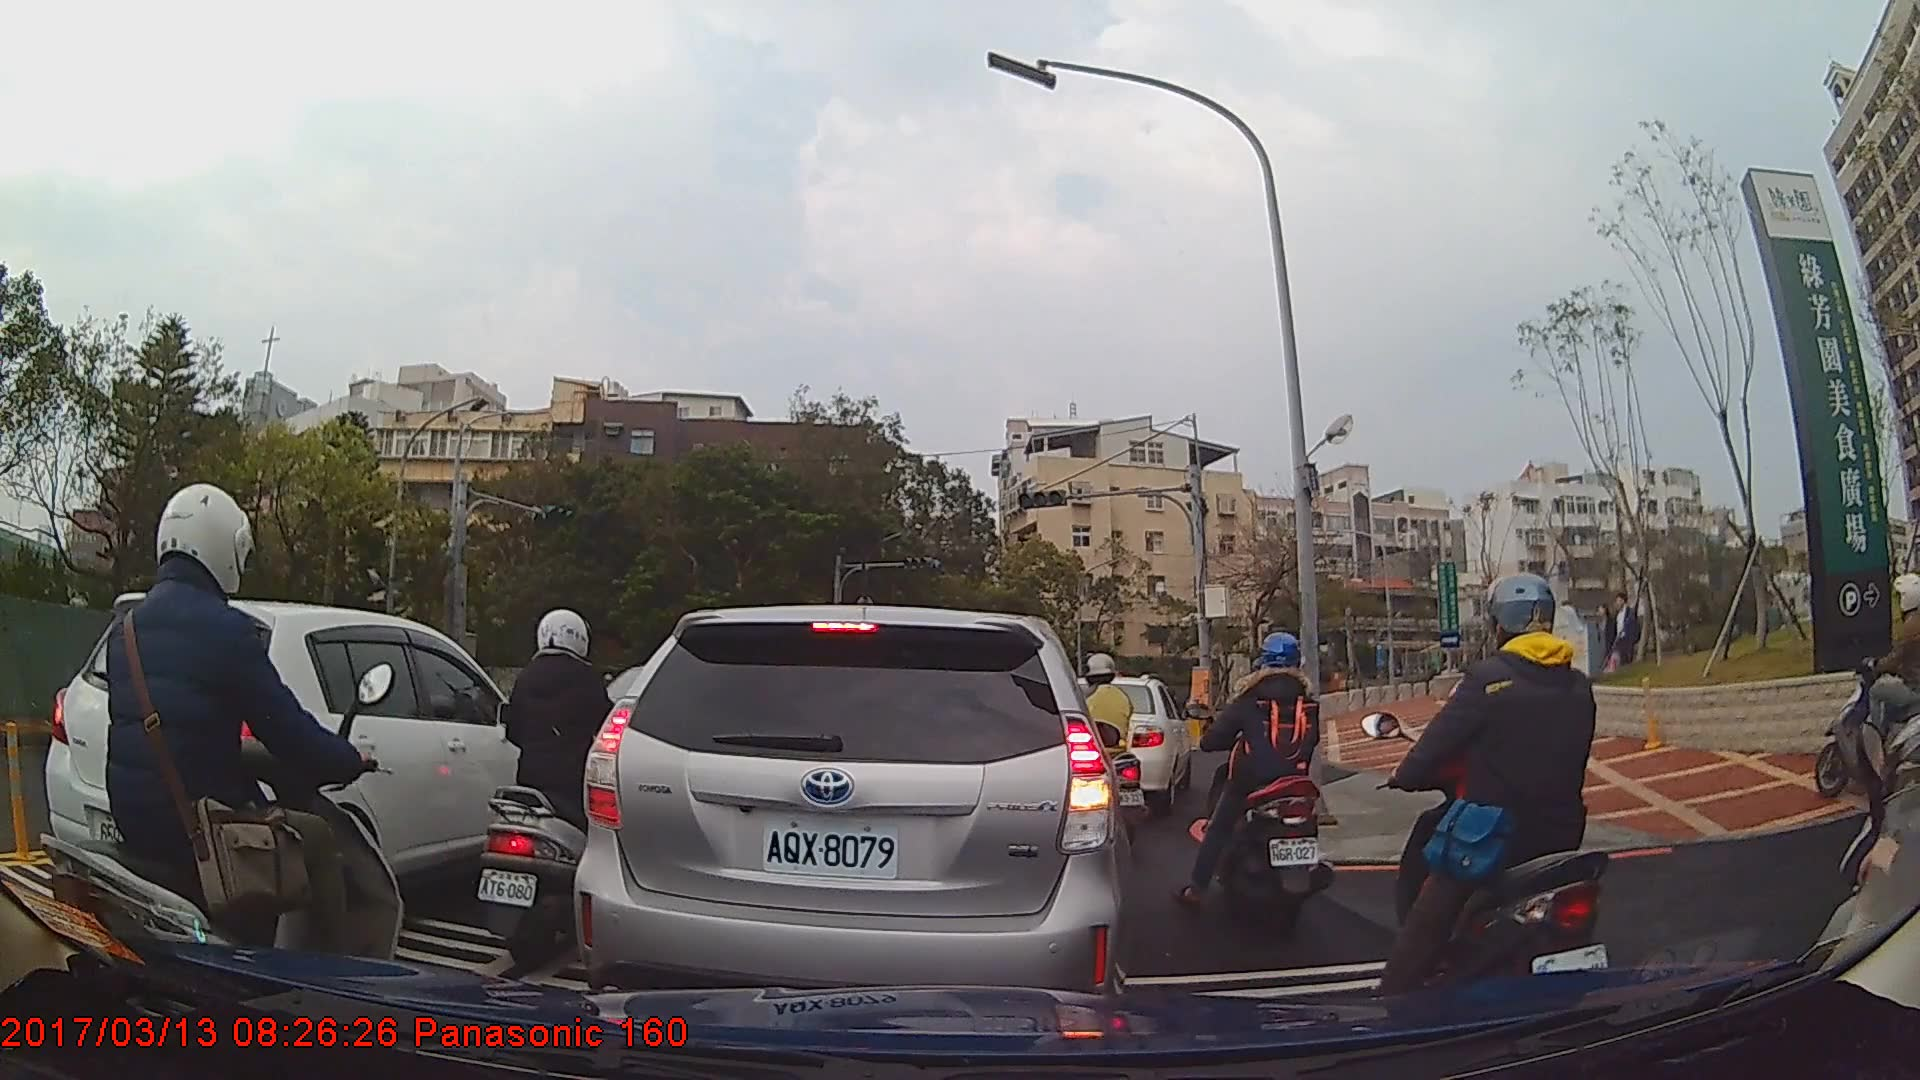pedestrian: (1604, 582, 1646, 678), (1586, 595, 1622, 687)
rider: (51, 485, 403, 1052), (1359, 572, 1620, 1032), (475, 607, 647, 971), (1176, 628, 1344, 941), (1811, 572, 1920, 801), (1057, 653, 1148, 844)
vehicle: (568, 601, 1139, 1033), (40, 591, 572, 929), (1047, 672, 1193, 817)
